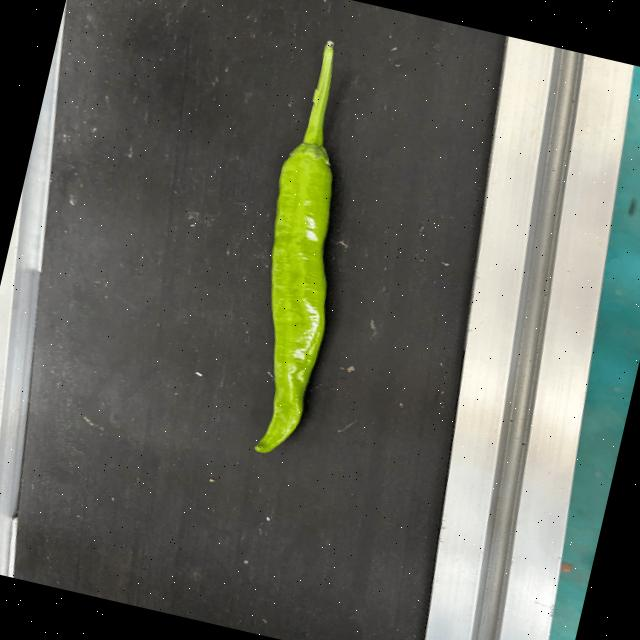chili: (251, 139, 334, 454)
